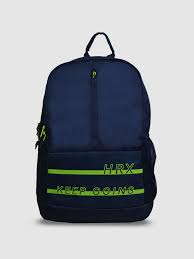backpack: (34, 31, 157, 223)
